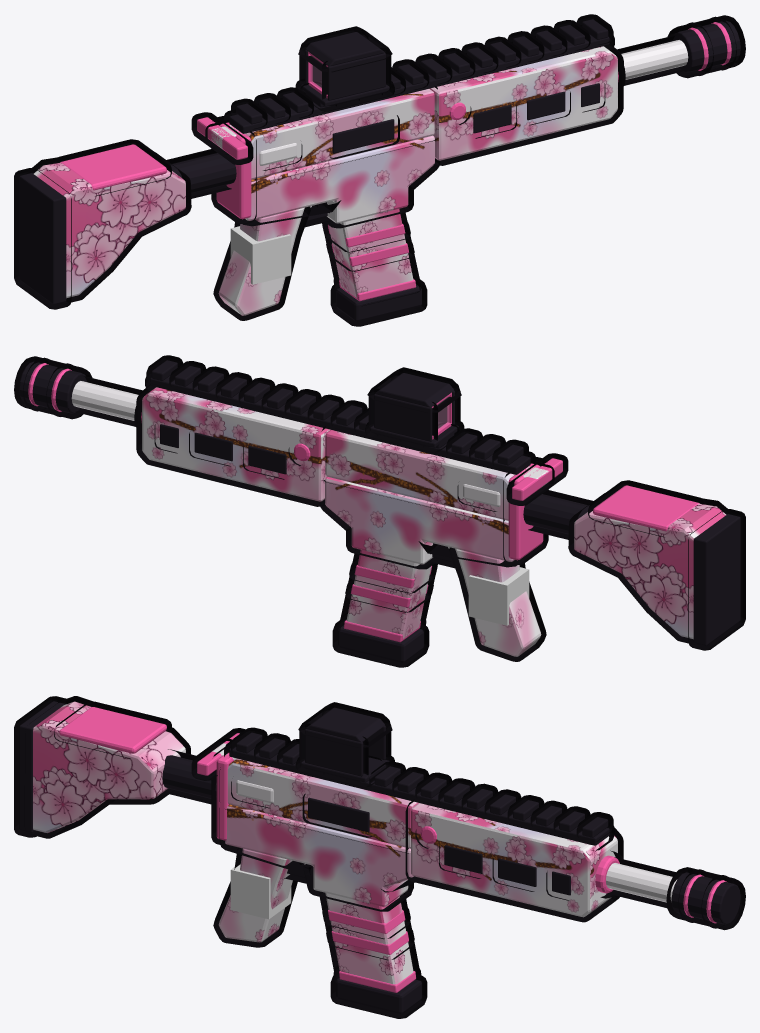
File: Phantom_Sakura.fbx
3 renders of one model, top to bottom at view 1: azimuth 30°, elevation 25°; view 2: azimuth 150°, elevation 25°; view 3: azimuth 330°, elevation 25°, orthographic.
Parts seen in each view (by area): view 1: Body_Sakura, Body_Noir, Body_Contour, Body_Rose, Magazine_Sakura, Body_Blanc, Root, Magazine_Contour, Magazine_Noir, Magazine_Rose, ChargingHandle_Rose, ChargingHandle_Contour; view 2: Body_Sakura, Body_Noir, Body_Contour, Body_Rose, Magazine_Sakura, Body_Blanc, Root, Magazine_Contour, Magazine_Noir, Magazine_Rose, ChargingHandle_Contour, ChargingHandle_Rose; view 3: Body_Sakura, Body_Noir, Body_Contour, Body_Rose, Magazine_Sakura, Body_Blanc, Magazine_Rose, Magazine_Contour, Root, Magazine_Noir, ChargingHandle_Contour.
Boxes of the visible parts, left/top/right/bottom form: Body_Sakura: left=33, top=46, right=617, bottom=315; Body_Noir: left=19, top=19, right=740, bottom=304; Body_Contour: left=14, top=14, right=745, bottom=320; Body_Rose: left=60, top=22, right=731, bottom=219; Magazine_Sakura: left=328, top=209, right=413, bottom=297; Body_Blanc: left=259, top=40, right=688, bottom=165; Root: left=230, top=226, right=291, bottom=284; Magazine_Contour: left=322, top=207, right=427, bottom=326; Magazine_Noir: left=336, top=284, right=421, bottom=321; Magazine_Rose: left=328, top=224, right=416, bottom=301; ChargingHandle_Rose: left=197, top=117, right=247, bottom=159; ChargingHandle_Contour: left=191, top=112, right=253, bottom=164; Body_Sakura: left=142, top=387, right=726, bottom=656; Body_Noir: left=19, top=360, right=740, bottom=645; Body_Contour: left=14, top=355, right=745, bottom=661; Body_Rose: left=28, top=363, right=699, bottom=560; Magazine_Sakura: left=346, top=550, right=431, bottom=638; Body_Blanc: left=71, top=381, right=500, bottom=506; Root: left=468, top=567, right=529, bottom=625; Magazine_Contour: left=332, top=548, right=437, bottom=667; Magazine_Noir: left=338, top=625, right=423, bottom=662; Magazine_Rose: left=343, top=565, right=431, bottom=642; ChargingHandle_Contour: left=506, top=453, right=568, bottom=505; ChargingHandle_Rose: left=512, top=458, right=562, bottom=500; Body_Sakura: left=33, top=701, right=617, bottom=942; Body_Noir: left=19, top=701, right=740, bottom=924; Body_Contour: left=14, top=696, right=745, bottom=947; Body_Rose: left=59, top=707, right=726, bottom=923; Magazine_Sakura: left=325, top=893, right=413, bottom=984; Body_Blanc: left=236, top=780, right=677, bottom=902; Magazine_Rose: left=328, top=910, right=415, bottom=992; Magazine_Contour: left=318, top=891, right=427, bottom=1018; Root: left=230, top=864, right=291, bottom=919; Magazine_Noir: left=336, top=977, right=421, bottom=1013; ChargingHandle_Contour: left=191, top=728, right=245, bottom=780.
Size of the model in its own units: 3.66 by 1.39 by 0.4169.
Materials: 15 (2 with a texture image).
